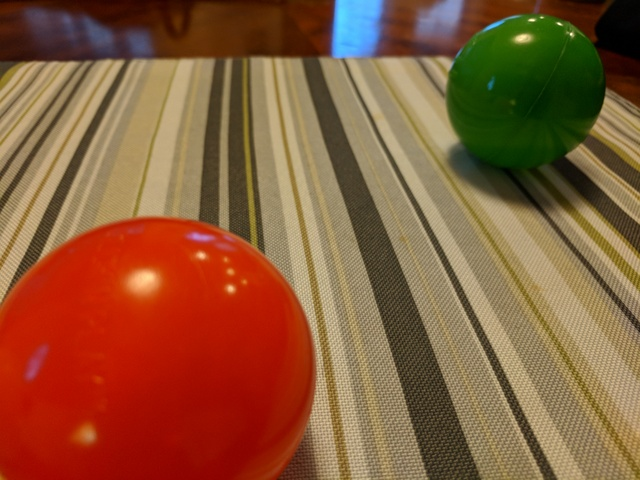Ball: (446, 14, 604, 169)
